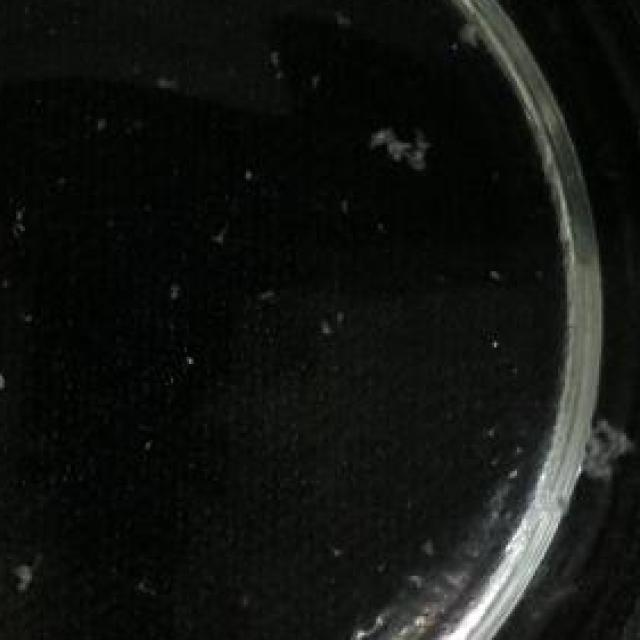Microplastic: (560, 371, 640, 497), (350, 109, 456, 188), (7, 538, 59, 606)
